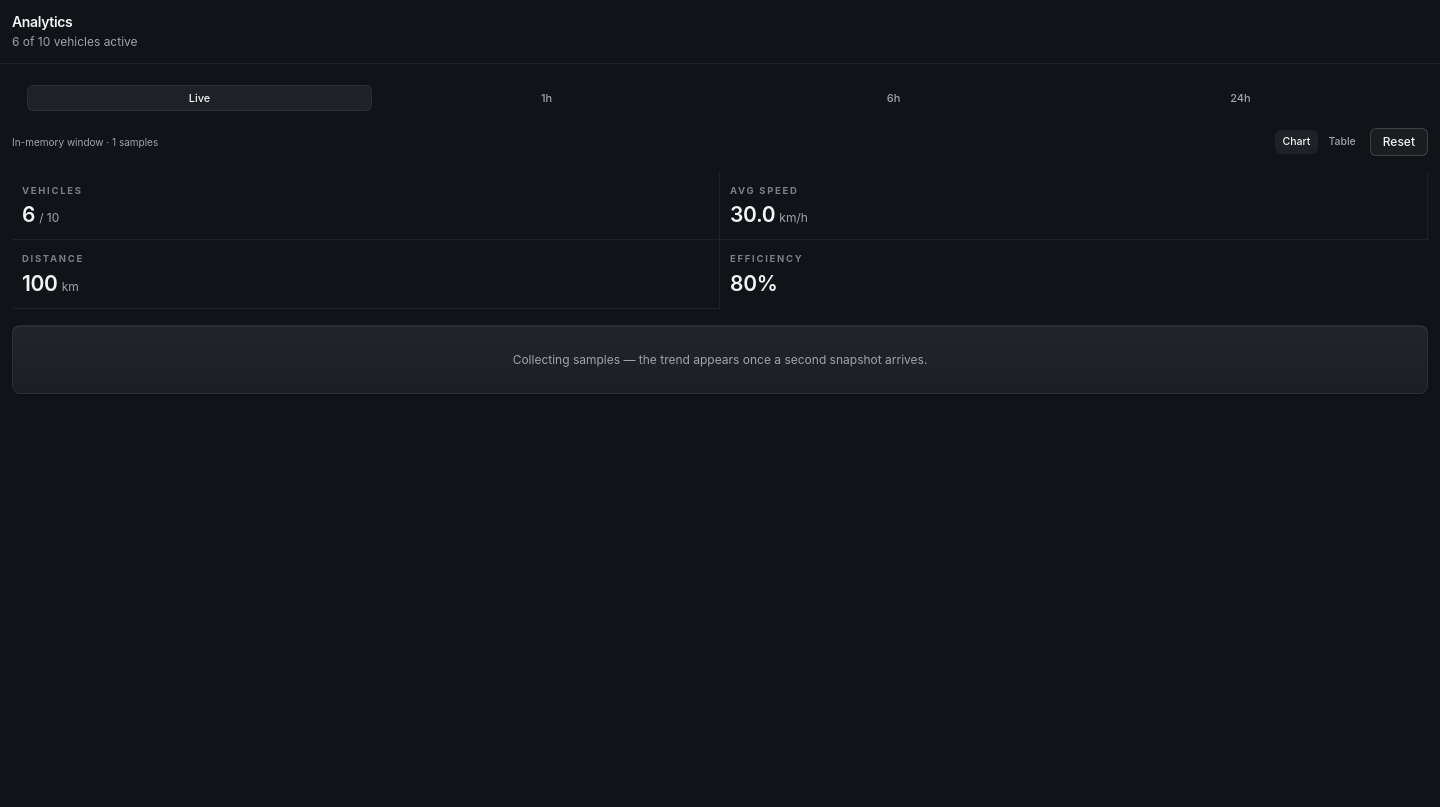
Test: AnalyticsPanel — server-side bucketing › reads the enveloped body and names the bucket width
Click the tab "6h". click: {"x": 894, "y": 98}
box: [721,84,1066,111]
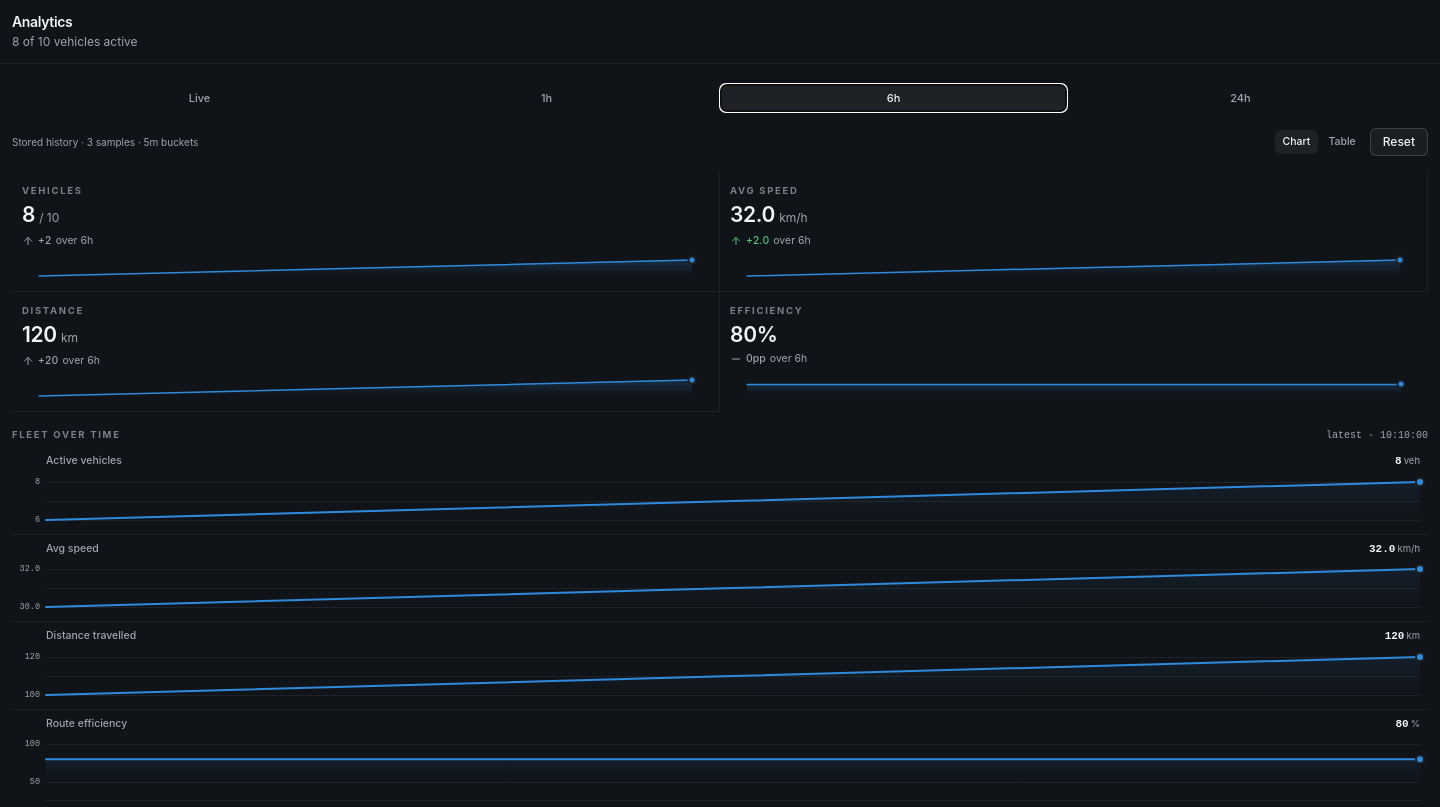
Expected: the text "Stored history · 3 samples · 5m buckets" is shown, [12,134,198,150]
Expected: the element with test id "facet-speed" is shown, [12,534,1428,622]
